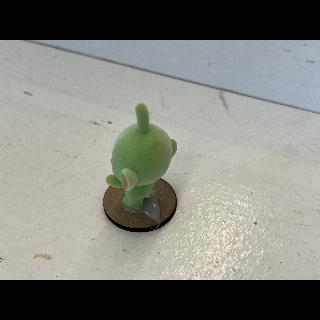teletubby: (106, 103, 177, 209)
